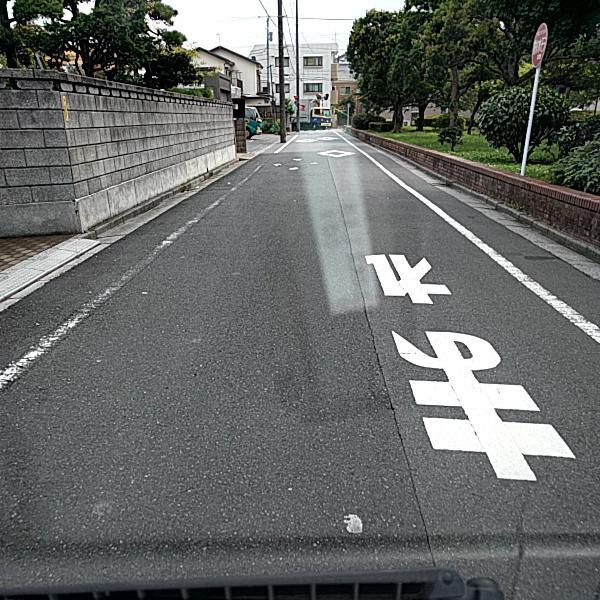D44: (4, 201, 218, 387)
